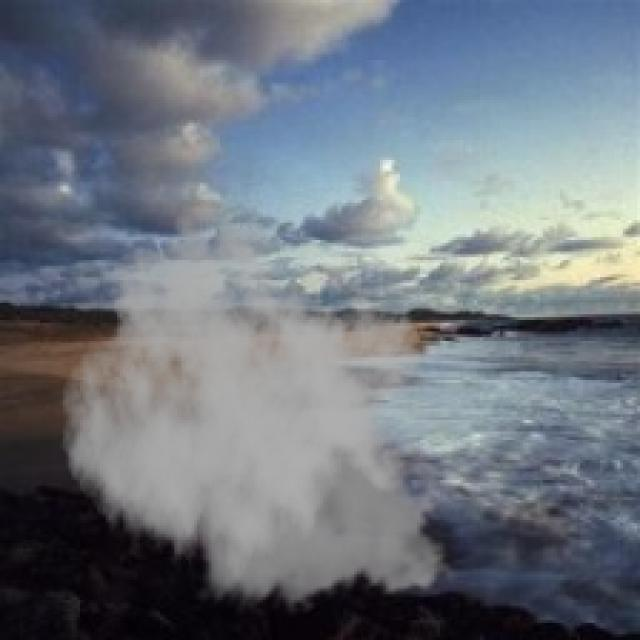smoke: (60, 212, 463, 617)
